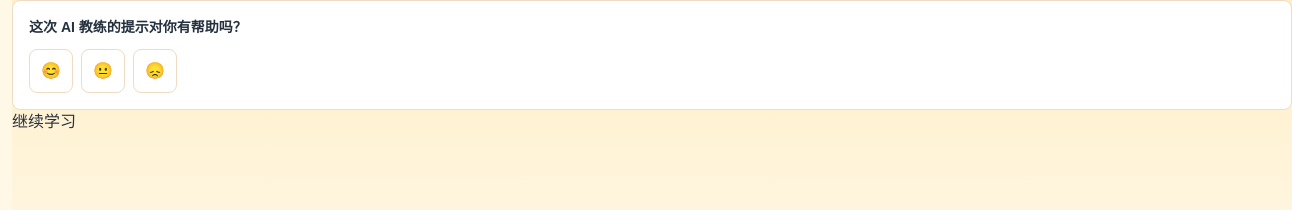
Scenario: FeedbackReaction save failure shows a retry message and keeps other controls usable
Click the button named "没帮助" at (155, 71), box [133, 49, 177, 93]
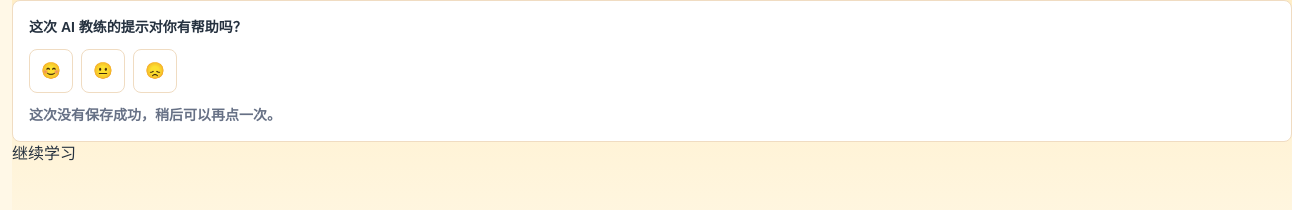
Expected: the button "继续学习" is enabled, [12, 142, 76, 166]
Expected: the message reads "这次没有保存成功，稍后可以再点一次。", [29, 107, 281, 123]
